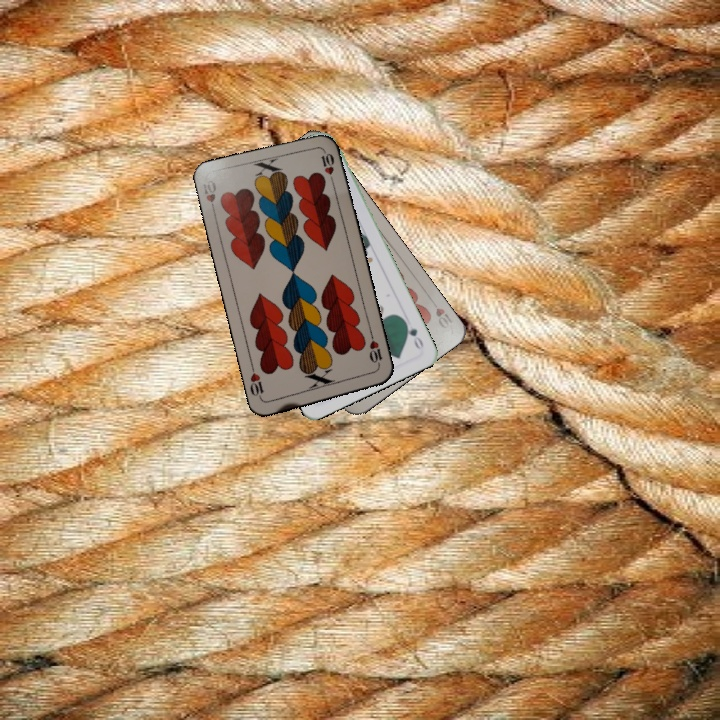GO: (399, 316, 426, 352)
H10: (426, 294, 456, 331), (198, 176, 219, 217), (365, 330, 385, 371)
